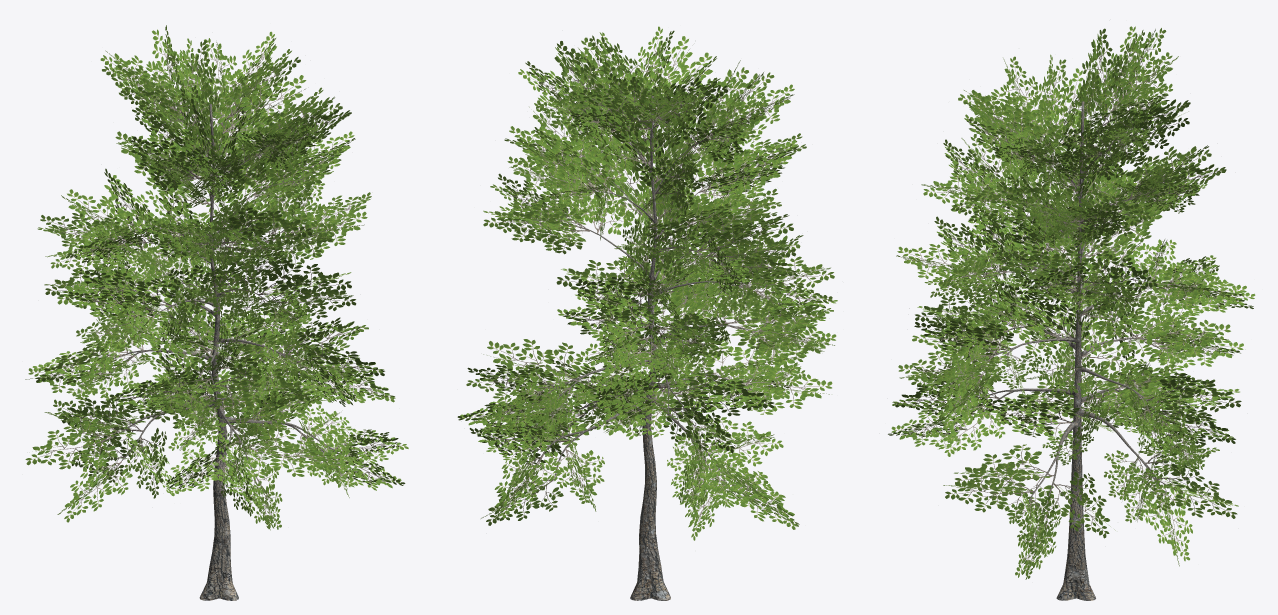
Rendered from tree_broad.glb.
The picture shows the model from 3 angles, left to right: view 1: azimuth 30°, elevation 25°; view 2: azimuth 150°, elevation 25°; view 3: azimuth 270°, elevation 25°; orthographic projection. The views are drawn at different scales.
Visible parts, largest first — view 1: _2_TP23_Leaf_0, _2_TP23_Trunk_0; view 2: _2_TP23_Leaf_0, _2_TP23_Trunk_0; view 3: _2_TP23_Leaf_0, _2_TP23_Trunk_0.
Part boxes in pixels (bbox=[...]): _2_TP23_Leaf_0: bbox=[25, 25, 408, 530]; _2_TP23_Trunk_0: bbox=[101, 103, 338, 600]; _2_TP23_Leaf_0: bbox=[457, 26, 837, 540]; _2_TP23_Trunk_0: bbox=[536, 92, 765, 600]; _2_TP23_Leaf_0: bbox=[888, 26, 1255, 579]; _2_TP23_Trunk_0: bbox=[974, 101, 1167, 600].
Bounding box in the file's own units: 5.56 × 8.5 × 5.4.
Materials: 2 (2 with a texture image).
